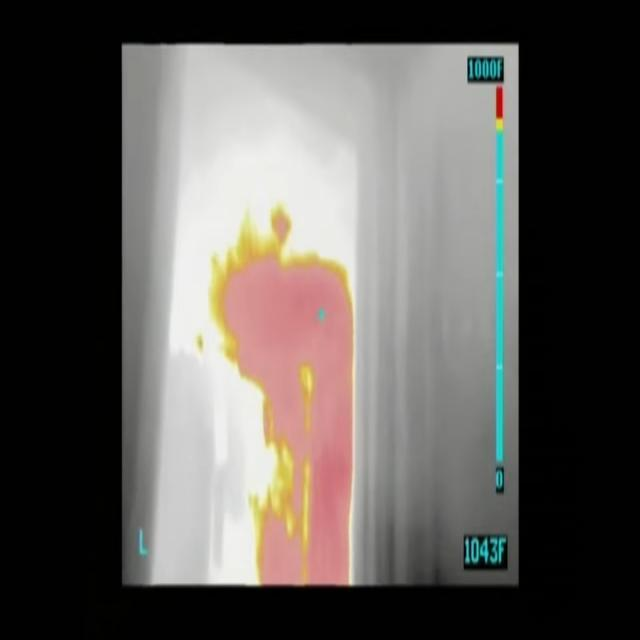fire: (201, 196, 357, 586)
